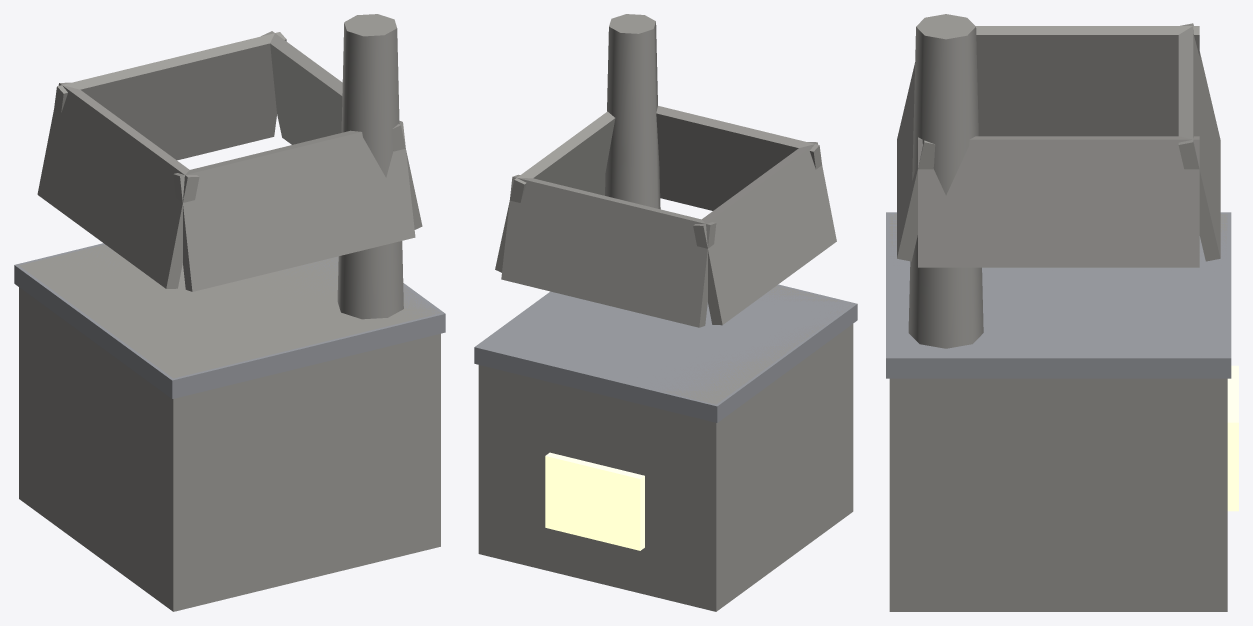
File: build_smelter.glb
3 renders of one model, left to right at view 1: azimuth 30°, elevation 25°; view 2: azimuth 150°, elevation 25°; view 3: azimuth 270°, elevation 25°, orthographic. The views are drawn at different scales.
Parts seen in each view (by area): view 1: Baked; view 2: Baked; view 3: Baked.
Part boxes in pixels (<box>): Baked: <box>14,14,445,611</box>; Baked: <box>474,14,857,611</box>; Baked: <box>886,14,1238,611</box>.
Bounding box in the file's own units: 0.92 × 1.65 × 0.94.
